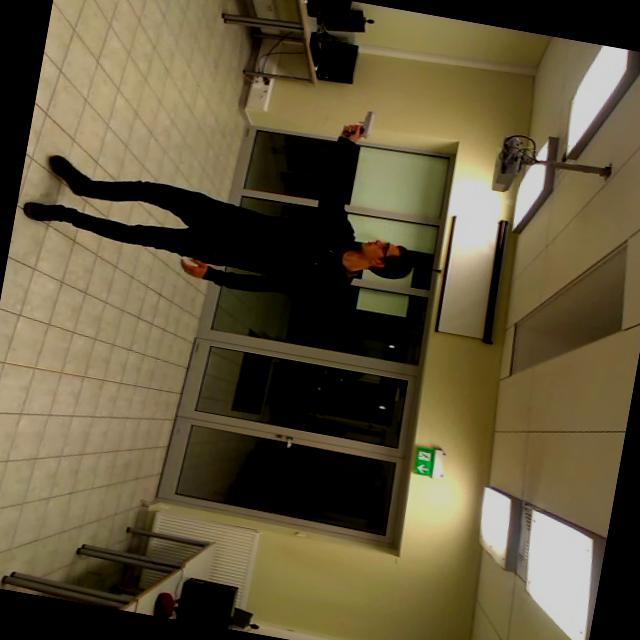handgun: (328, 99, 384, 154)
